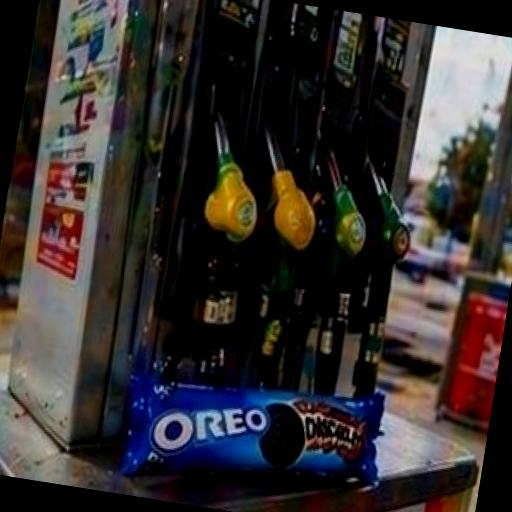oreo: (92, 289, 446, 512)
